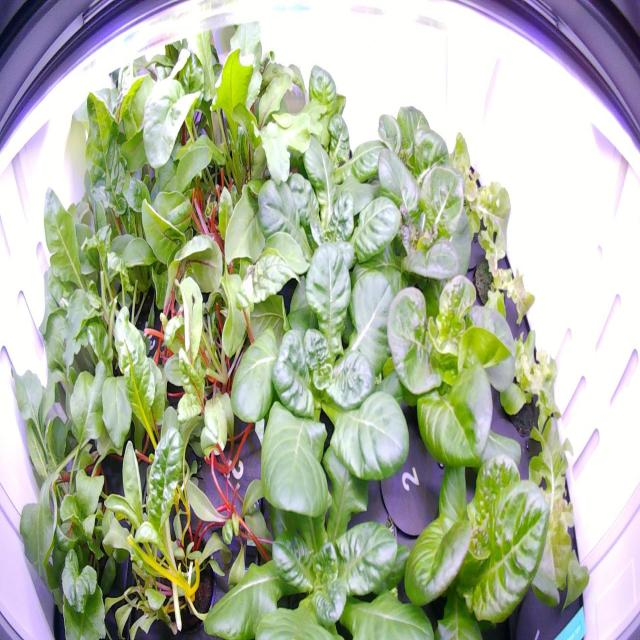young: (214, 244, 451, 530), (192, 400, 450, 639), (373, 420, 562, 640), (227, 128, 408, 348), (365, 250, 525, 486), (338, 138, 486, 310), (245, 60, 401, 216), (340, 88, 472, 215)
